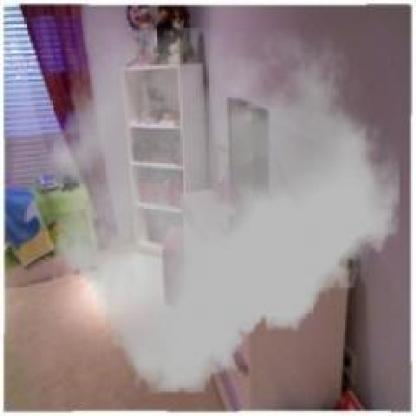Smoke: (46, 28, 399, 393)
